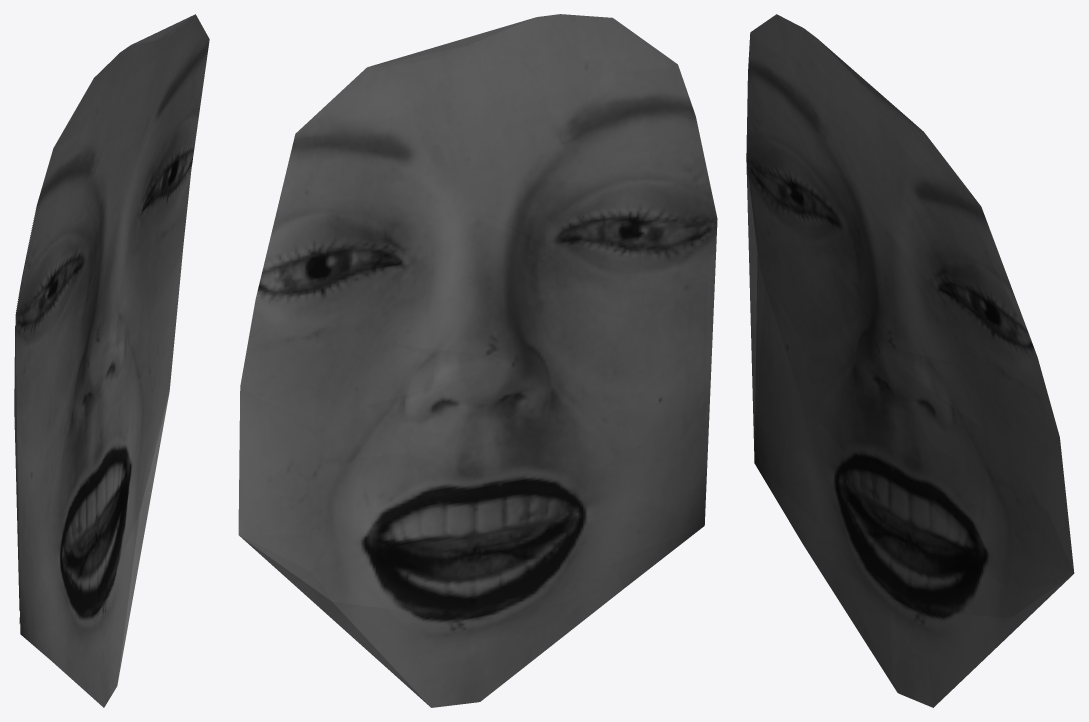
3 views of the same model, side by side, from view 1: azimuth 30°, elevation 25°; view 2: azimuth 150°, elevation 25°; view 3: azimuth 270°, elevation 25° (orthographic). The views are drawn at different scales.
Parts seen in each view (by area): view 1: world; view 2: world; view 3: world.
Boxes of the visible parts, bbox=[...] form: world: bbox=[14, 14, 209, 707]; world: bbox=[238, 14, 717, 707]; world: bbox=[746, 14, 1074, 707].
Size of the model in its own units: 0.1044 by 0.2075 by 0.095.
1 material, 1 textured.
